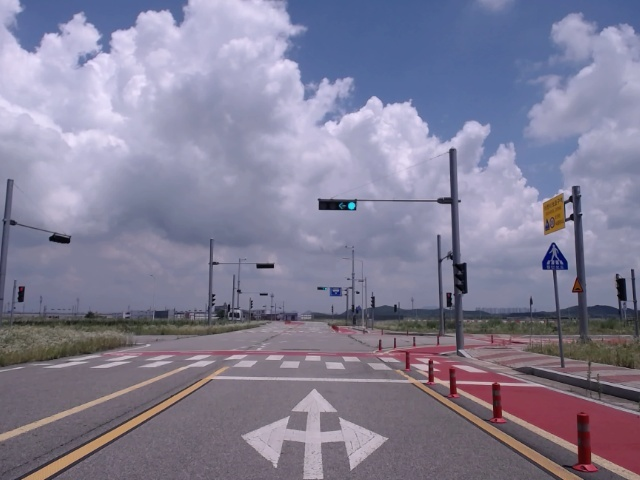all_green_4: (315, 197, 361, 212)
